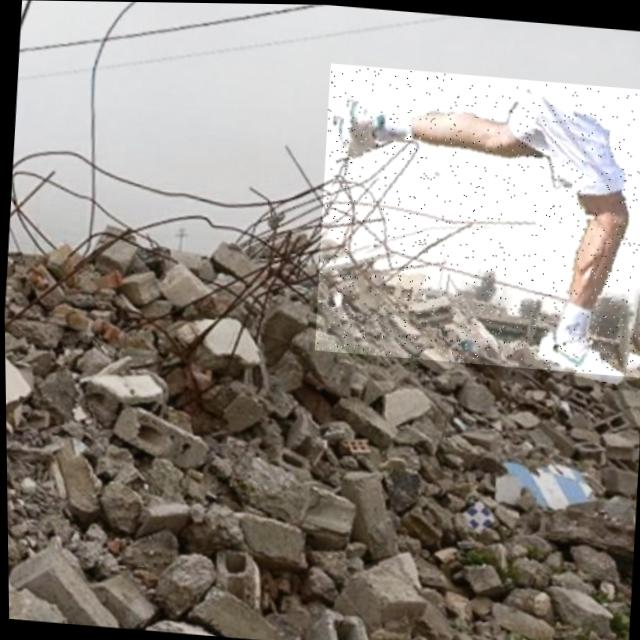Person in Rubble: (310, 62, 640, 375)
